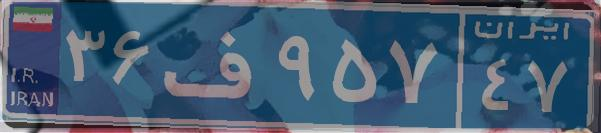3: (57, 26, 110, 107)
4: (475, 38, 525, 113)
5: (330, 28, 385, 110)
6: (110, 28, 158, 105)
7: (385, 28, 445, 110), (525, 38, 570, 115)
9: (273, 28, 330, 110)
ف: (158, 15, 273, 115)
